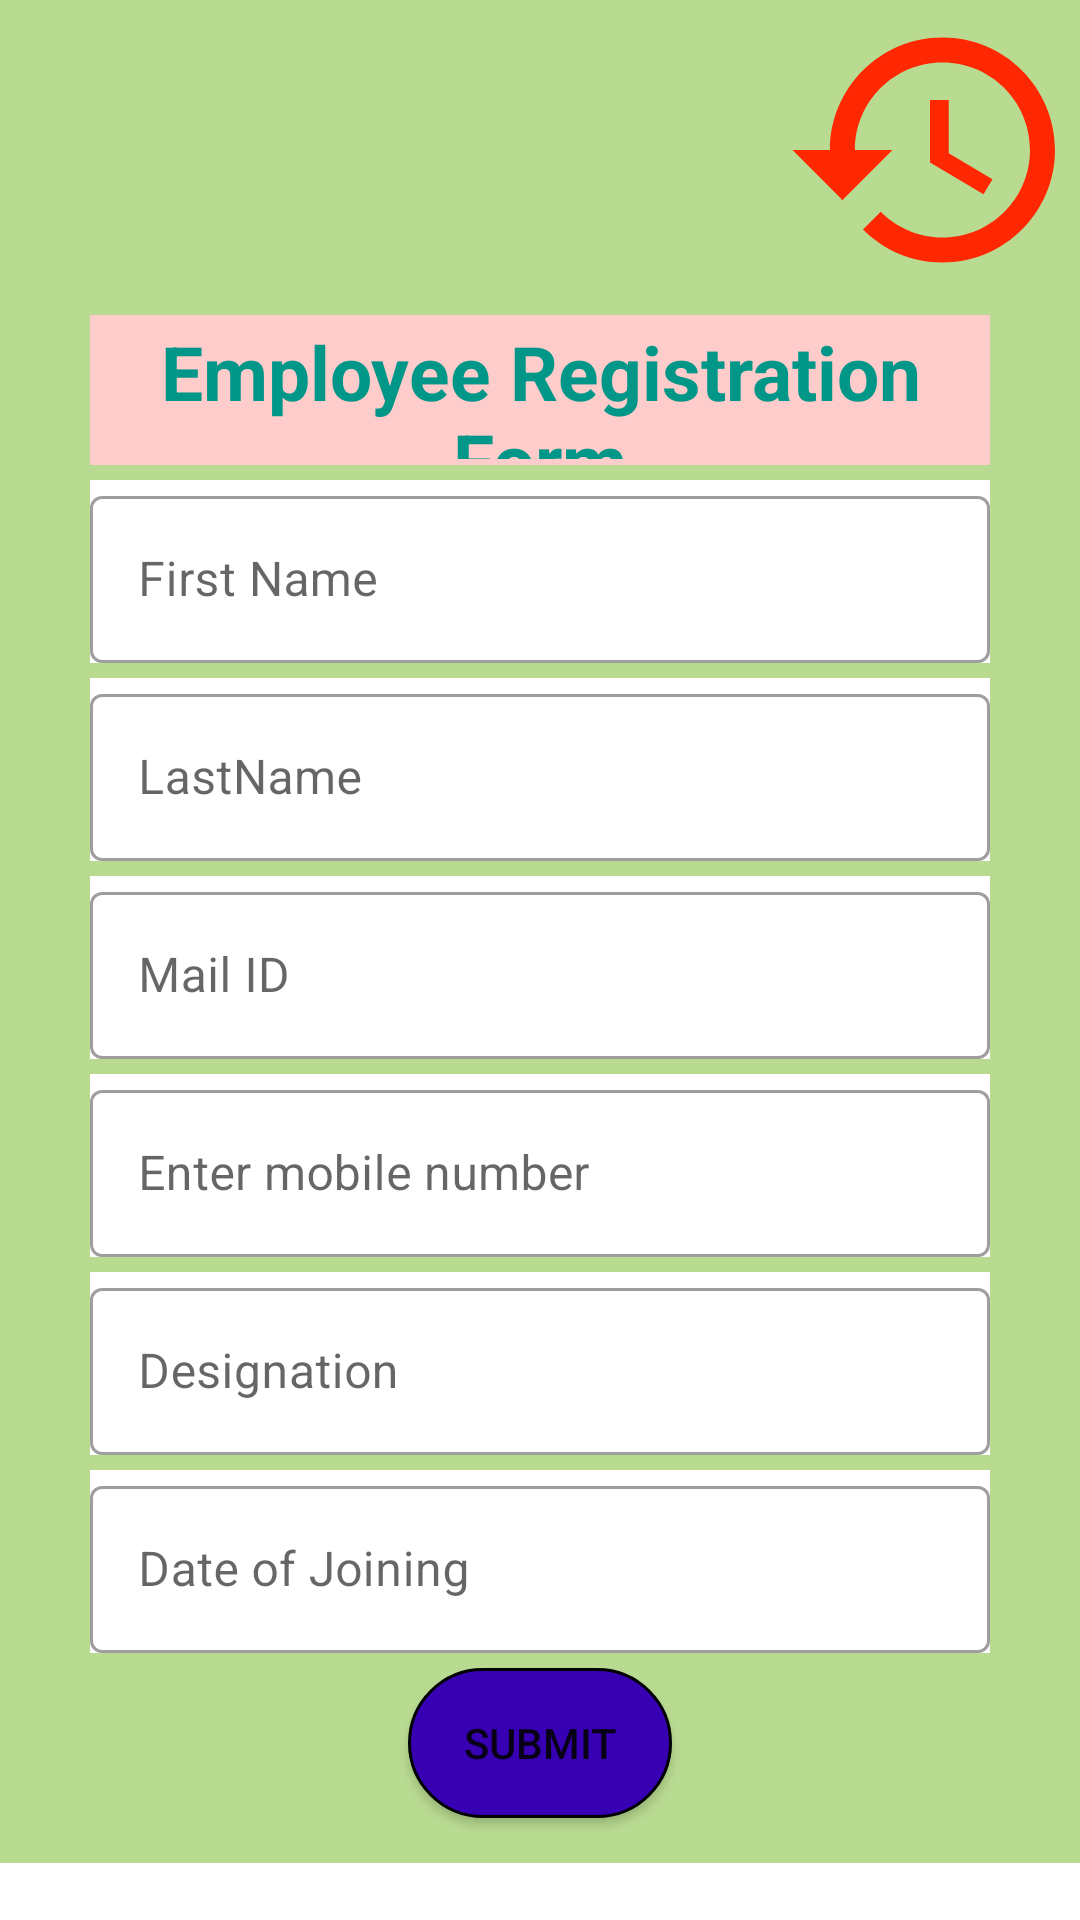

Where icons sit on this 1080*1920 app screen, as (x1, y1, x2, y2):
history: (793, 37, 1055, 263)
